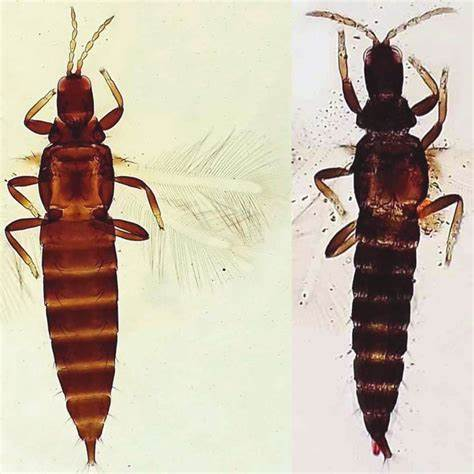Phlaeothripidae: (1, 5, 282, 470), (303, 7, 474, 470)
